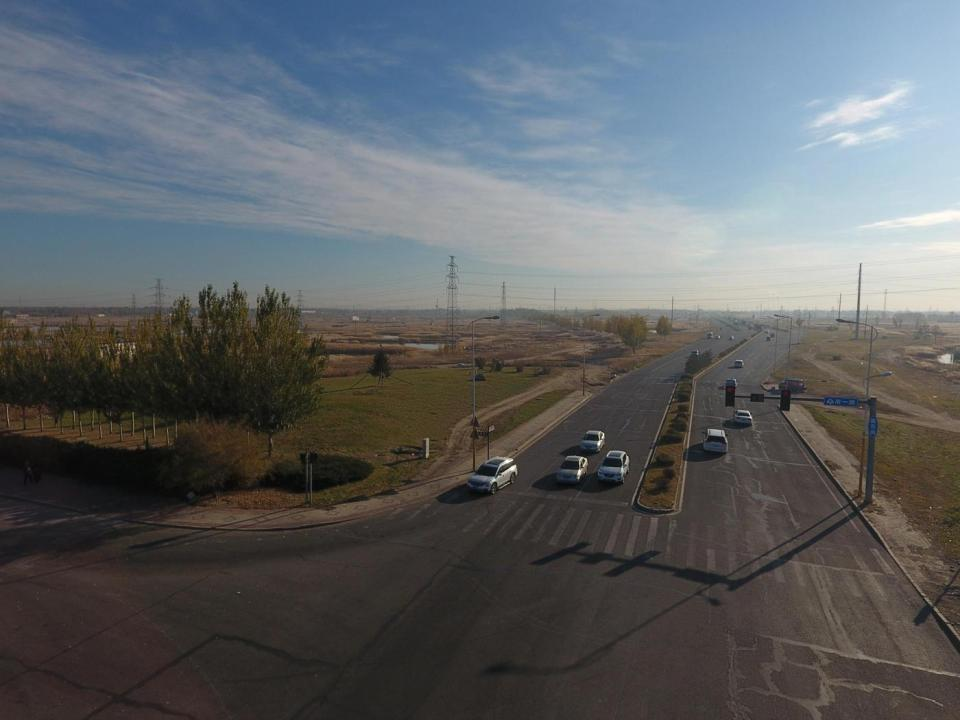bus: (707, 331, 713, 338)
car: (466, 456, 519, 496), (554, 452, 590, 487), (598, 450, 631, 487), (702, 428, 728, 455), (580, 430, 606, 454), (731, 409, 753, 425), (724, 378, 737, 387), (734, 360, 744, 369), (691, 349, 700, 357), (715, 334, 720, 338), (729, 336, 734, 339), (764, 330, 768, 333), (762, 326, 766, 329), (748, 327, 752, 330)
truck: (733, 320, 736, 325)
van: (766, 336, 771, 341), (770, 332, 774, 338)
